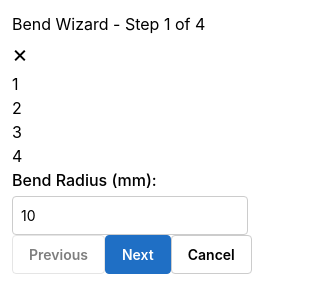
Scenario: M24 Assembly & Bend Components › BendWizard › should navigate steps
Click the button "Next" at (138, 254), box [105, 235, 171, 274]
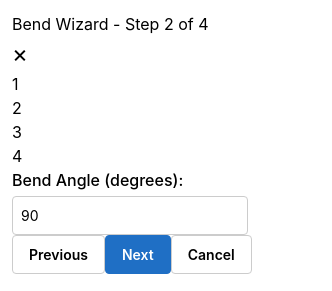
Result: the heading "Bend Wizard - Step 2 of 4" is shown at [12, 14, 208, 34]
